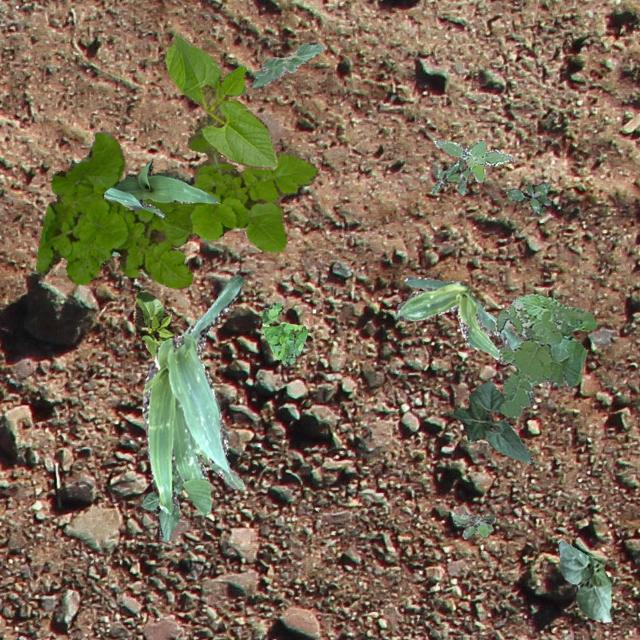crop: (142, 274, 245, 514), (166, 33, 276, 168), (394, 274, 520, 364), (102, 158, 216, 216), (452, 380, 532, 462), (558, 540, 612, 622), (252, 42, 324, 86), (140, 468, 182, 540), (132, 290, 174, 358), (110, 250, 118, 254)
weed: (36, 112, 316, 288), (494, 293, 596, 417), (432, 138, 510, 182), (260, 300, 306, 364), (506, 180, 550, 214), (432, 158, 469, 194), (452, 512, 494, 538)
